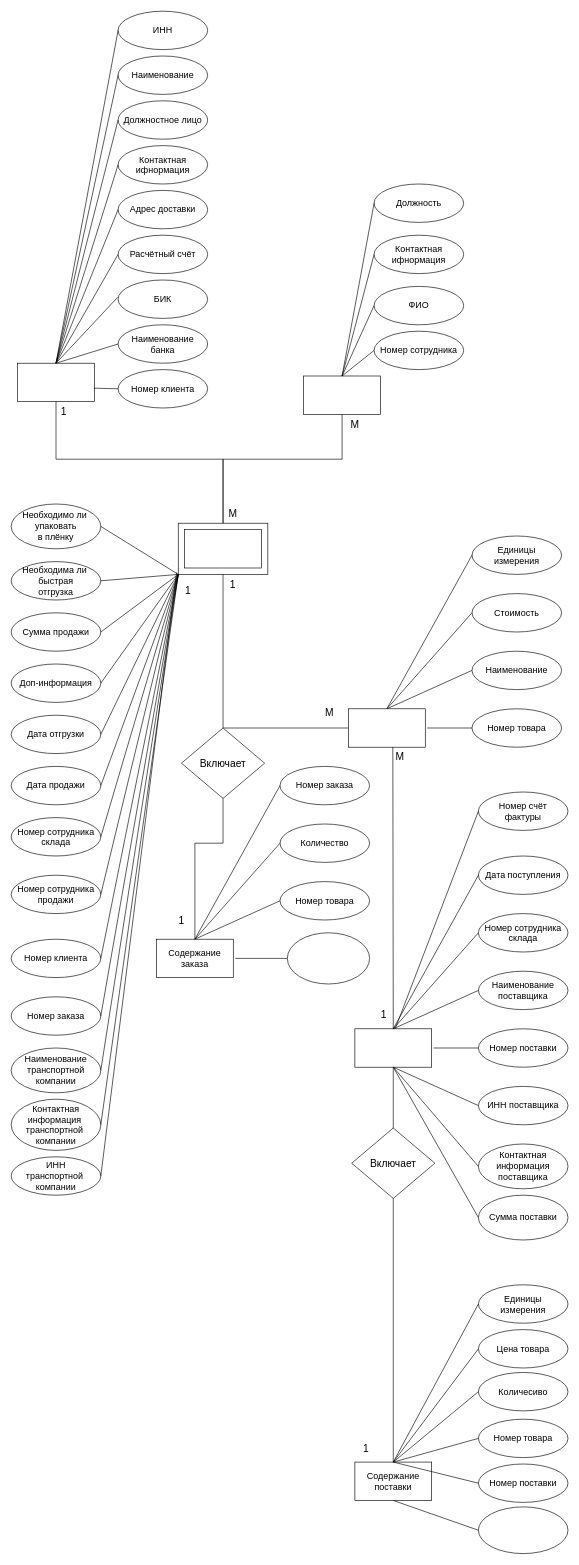
The diagram is 579 pixels wide and 1565 high, and some of its shapes have lost their labels. Each missing label, with the centre of its shape:
"Заказы" belongs at point 222,548.
"Номер с одержания поставки" belongs at point 523,1530.
"Номер содержания заказ" belongs at point 328,958.
"Поставки" belongs at point 393,1047.
"Профиль клиента" belongs at point 55,382.
"Сотрудники" belongs at point 341,394.
"Товары" belongs at point 386,727.
